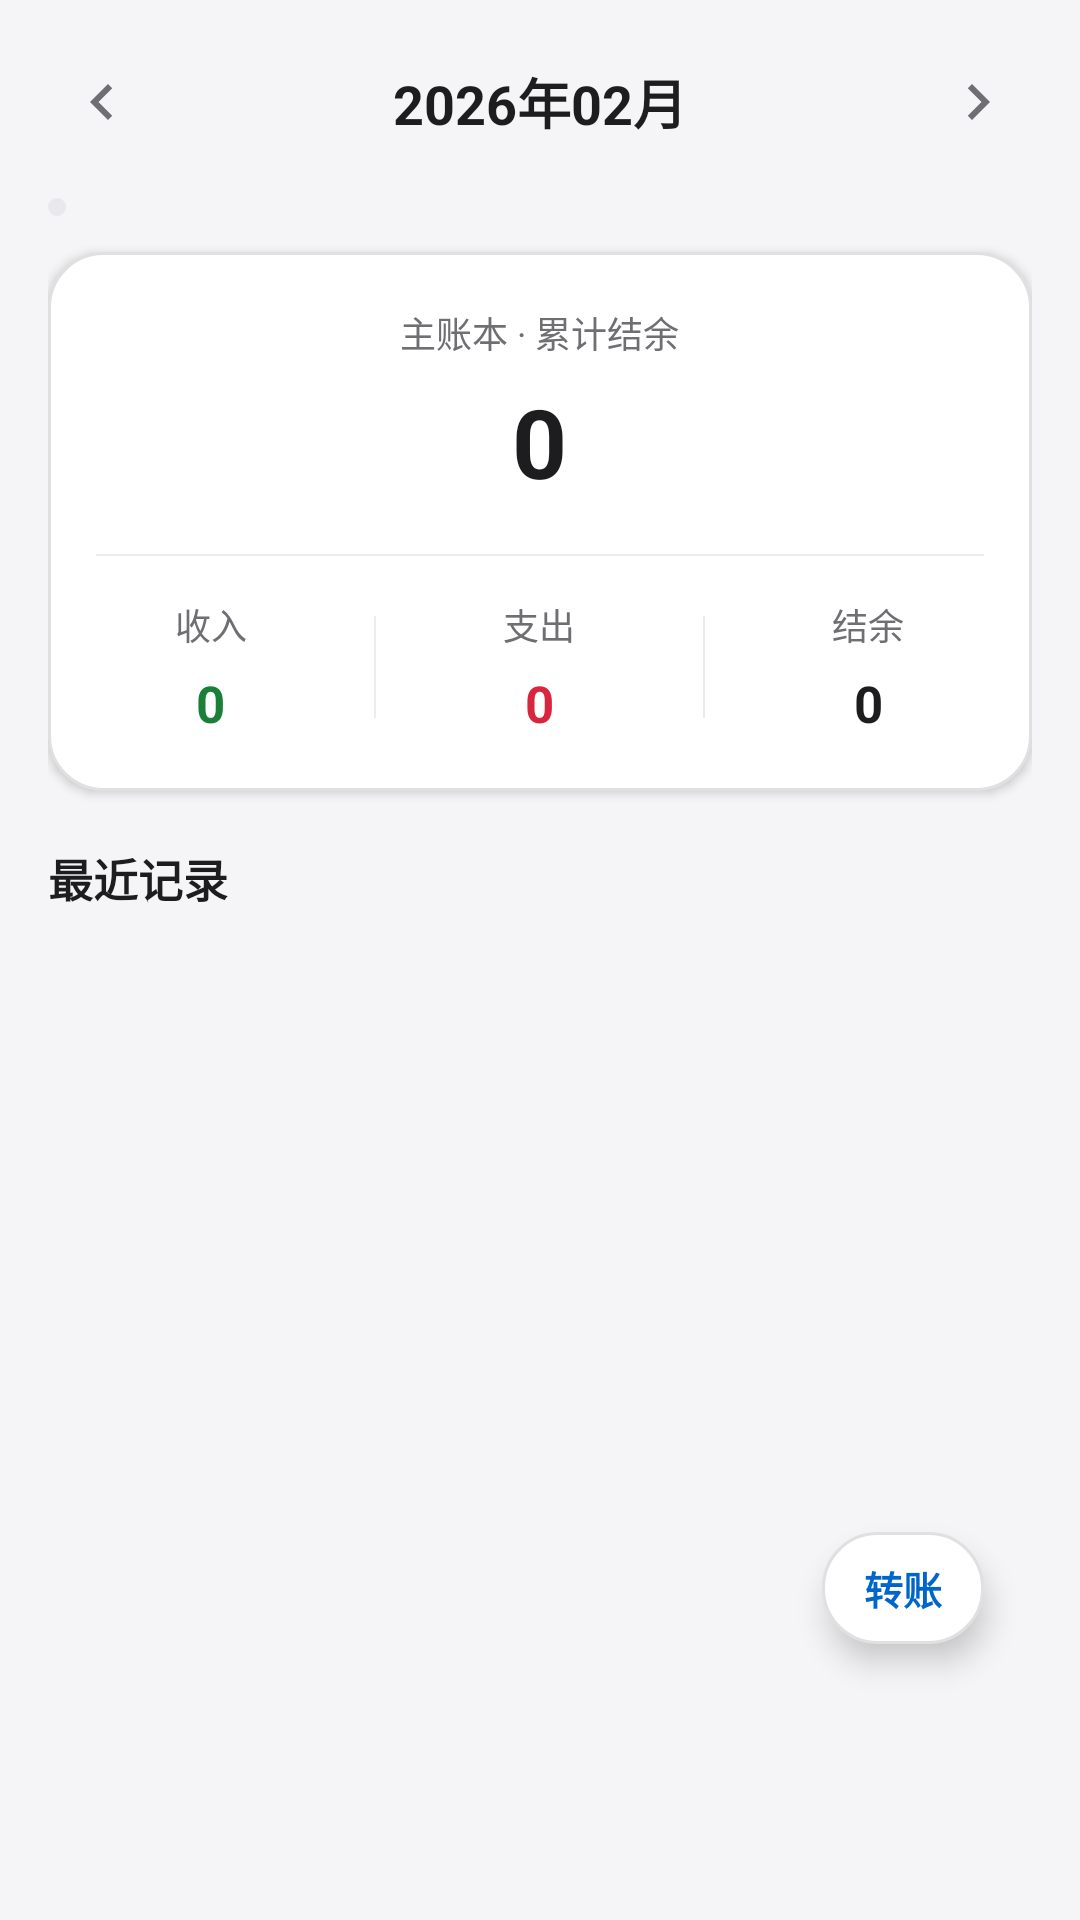

Screen size 1080*1920. Icon name, then its box in pixels as box=[x1, y1, x2, y2]:
chev left: box=[90, 84, 112, 120]
chev right: box=[968, 84, 990, 120]
